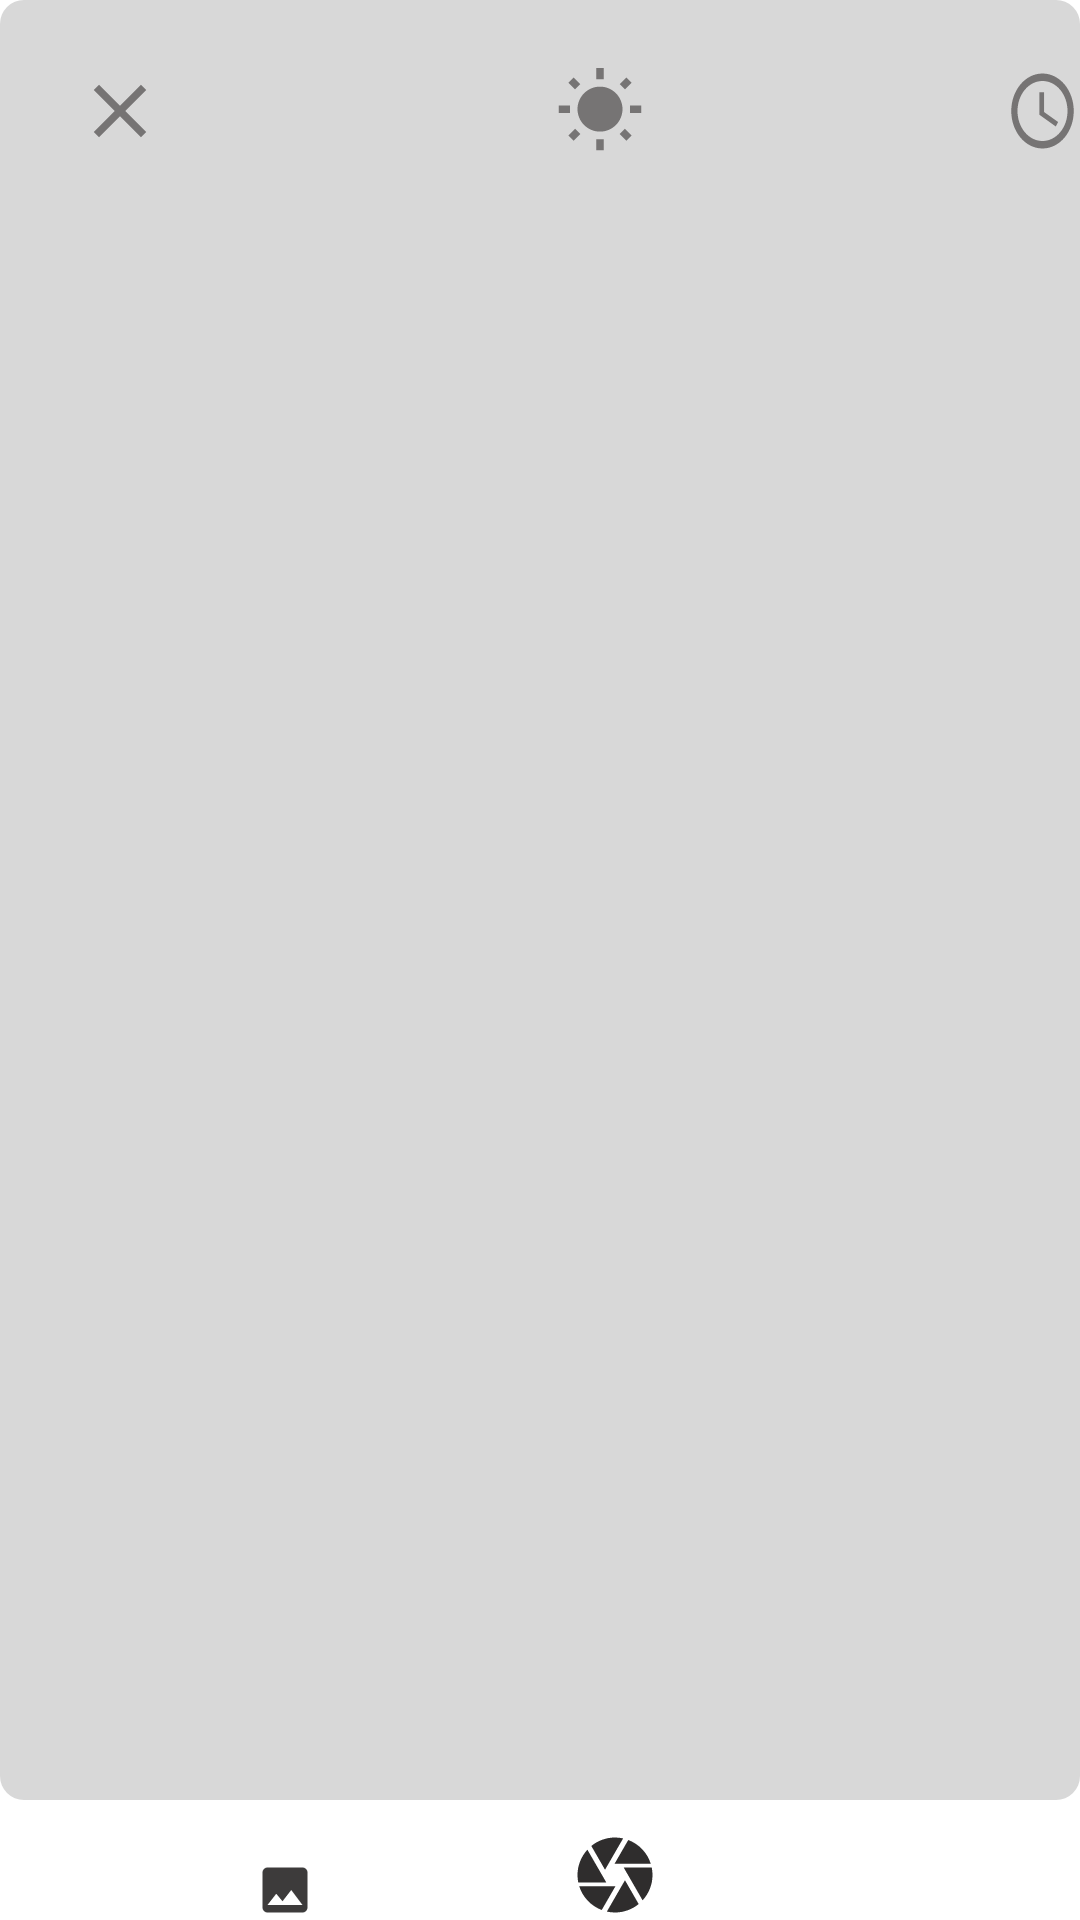

Screen size 1080×1920. Icon name, then its center in pixels as (x=x, y=y):
access time: (x=1042, y=111)
camera: (x=615, y=1875)
close: (x=120, y=111)
sunny: (x=600, y=109)
